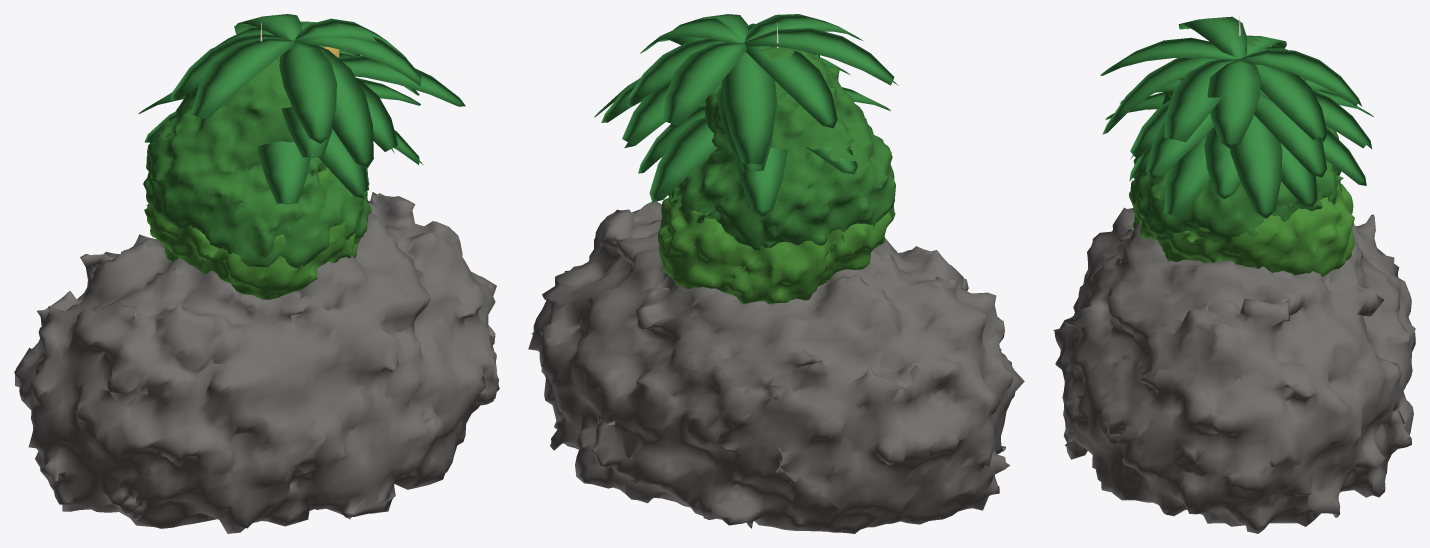
The model's file is common.glb.
The picture shows the model from 3 angles, left to right: view 1: azimuth 30°, elevation 25°; view 2: azimuth 150°, elevation 25°; view 3: azimuth 270°, elevation 25°; orthographic projection. The views are drawn at different scales.
Visible parts, largest first — view 1: rock4, tree2, palm2, tree1, palm3, palm1; view 2: rock4, tree2, palm2, tree1, palm3, palm1; view 3: rock4, palm2, palm1, tree1, palm3, tree2.
Part boxes in pixels (x1,y1,x2,y2): rock4: [14, 192, 499, 533]; tree2: [143, 37, 370, 269]; palm2: [170, 14, 421, 168]; tree1: [144, 167, 371, 299]; palm3: [138, 77, 423, 204]; palm1: [172, 45, 465, 158]; rock4: [528, 201, 1024, 533]; tree2: [668, 46, 895, 250]; palm2: [627, 14, 898, 164]; tree1: [658, 192, 895, 304]; palm3: [638, 87, 890, 216]; palm1: [594, 36, 849, 174]; rock4: [1053, 207, 1415, 533]; palm2: [1100, 16, 1361, 148]; palm1: [1119, 79, 1371, 218]; tree1: [1132, 182, 1354, 276]; palm3: [1105, 89, 1373, 219]; tree2: [1129, 36, 1343, 244].
Size of the model in its own units: 10.51 by 9.75 by 7.45.
